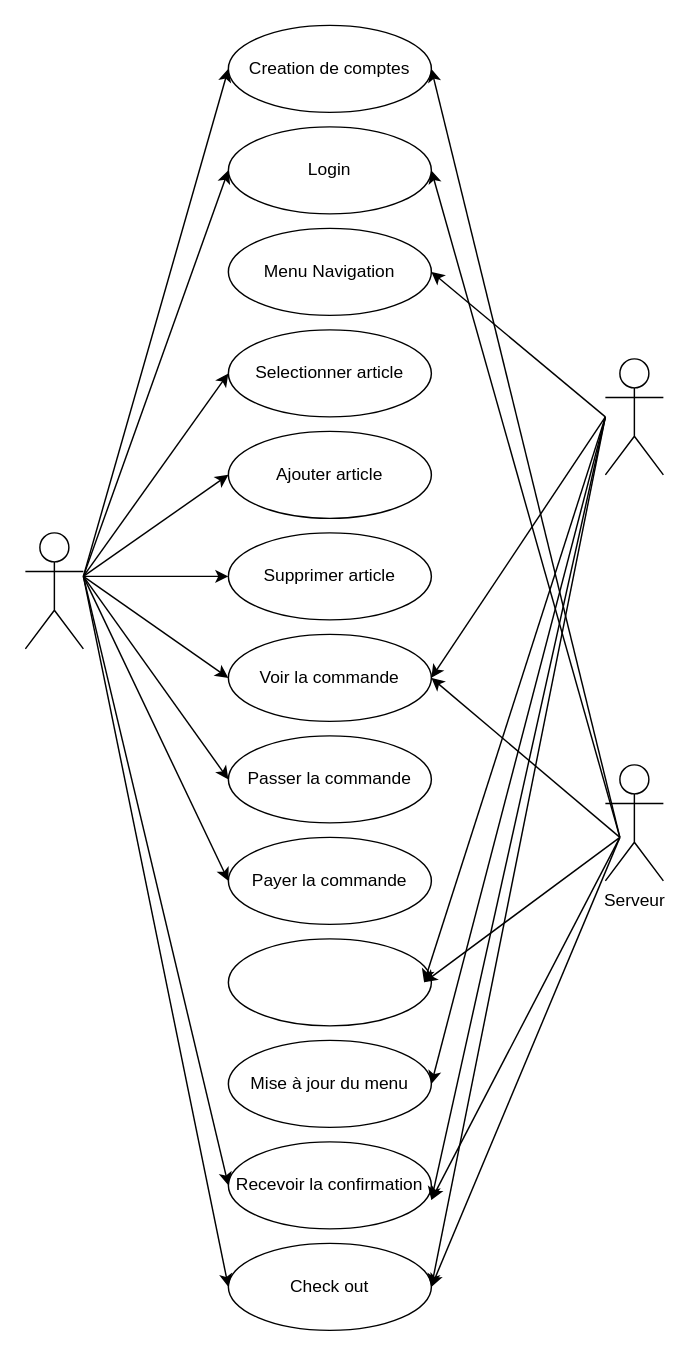
Some shapes in this 690 by 1356 pixel diagram are drawn without their labels. Each missing label, with the centre of its shape:
Admin: (633,416)
Client: (53,590)
Recevoir la commande: (329,981)
